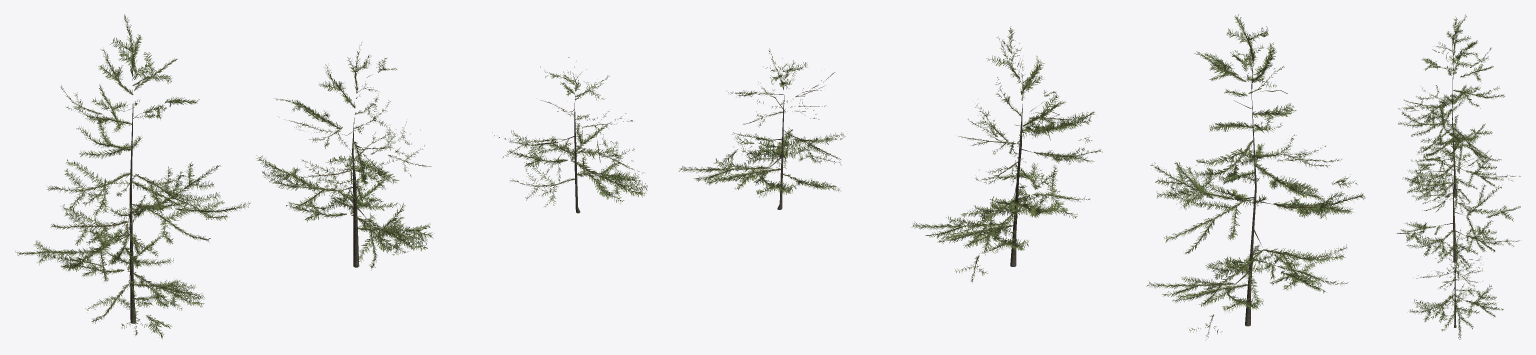
Rendered from tree_b.gltf.
3 views of the same model, side by side, from view 1: azimuth 30°, elevation 25°; view 2: azimuth 150°, elevation 25°; view 3: azimuth 270°, elevation 25° (orthographic). The views are drawn at different scales.
Visible parts, largest first — view 1: fir_sapling_a; view 2: fir_sapling_a; view 3: fir_sapling_a.
Part boxes in pixels (x1=…): fir_sapling_a: x1=15, y1=14, x2=647, y2=339; fir_sapling_a: x1=678, y1=14, x2=1365, y2=340; fir_sapling_a: x1=1397, y1=14, x2=1520, y2=339.
Size of the model in its own units: 2.74 by 1.3 by 0.8171.
Materials: 2 (2 with a texture image).
